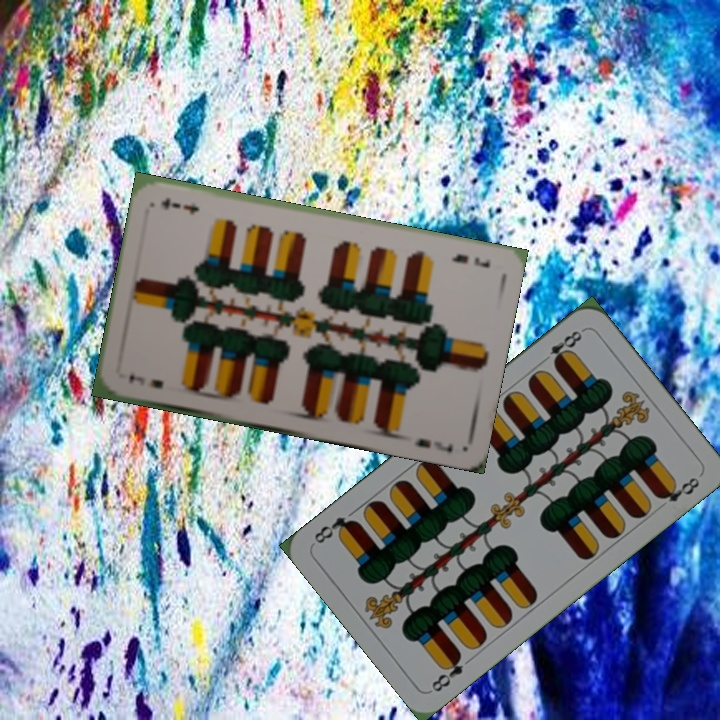E7: (447, 249, 492, 270), (125, 370, 166, 391)
E8: (536, 325, 587, 369), (427, 648, 466, 695)
